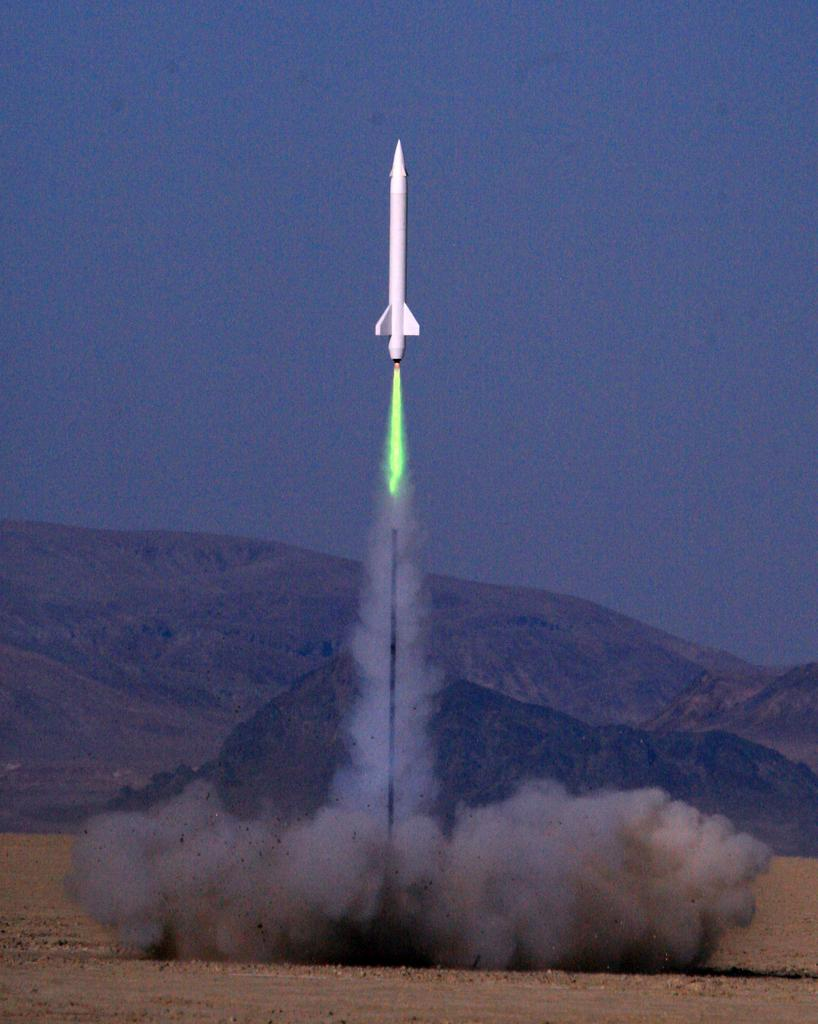Missile: (363, 150, 433, 364)
